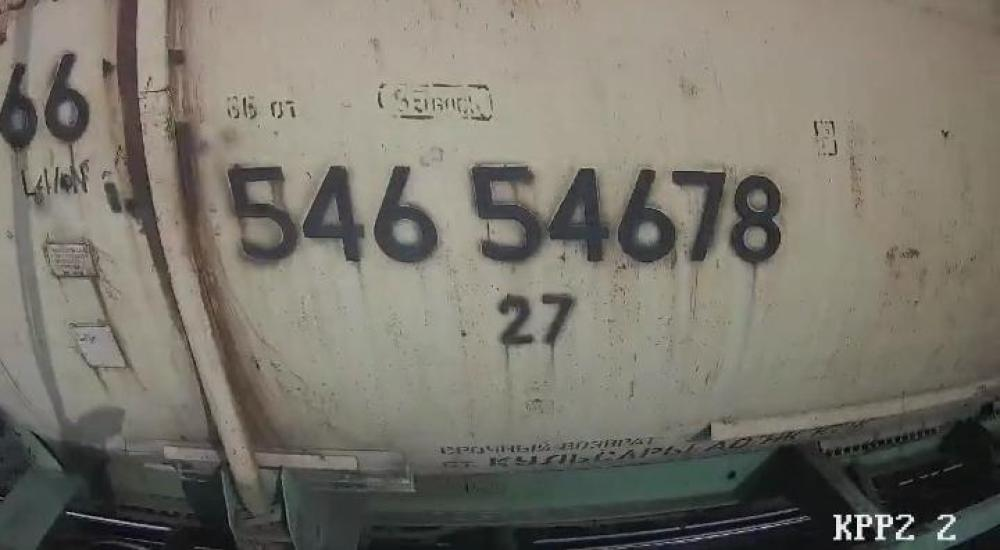Wagon-number: (223, 158, 788, 267)
